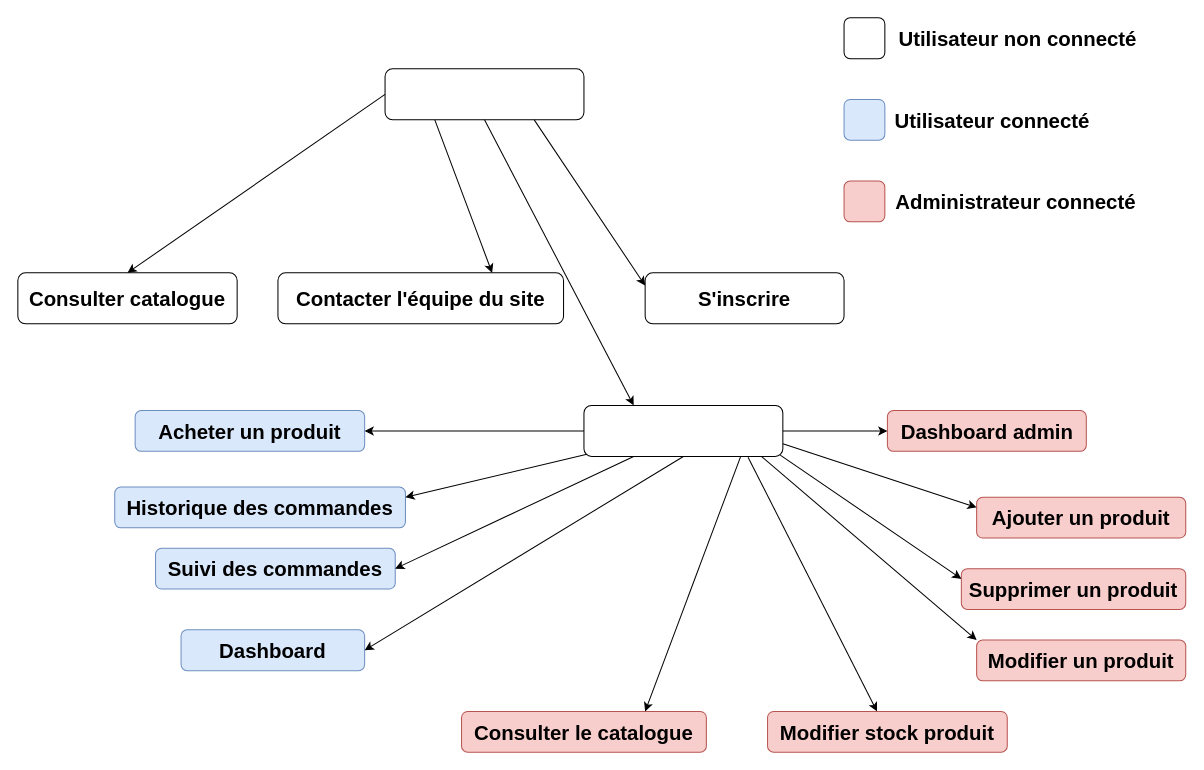
Some shapes in this 1204 by 770 pixel diagram are drawn without their labels. The shapes that lost their labels are listed below. From the top down, each one's centre as x and y in pixels, then its label:
At [484,94]: "Accueil".
At [683,430]: "Se connecter".
